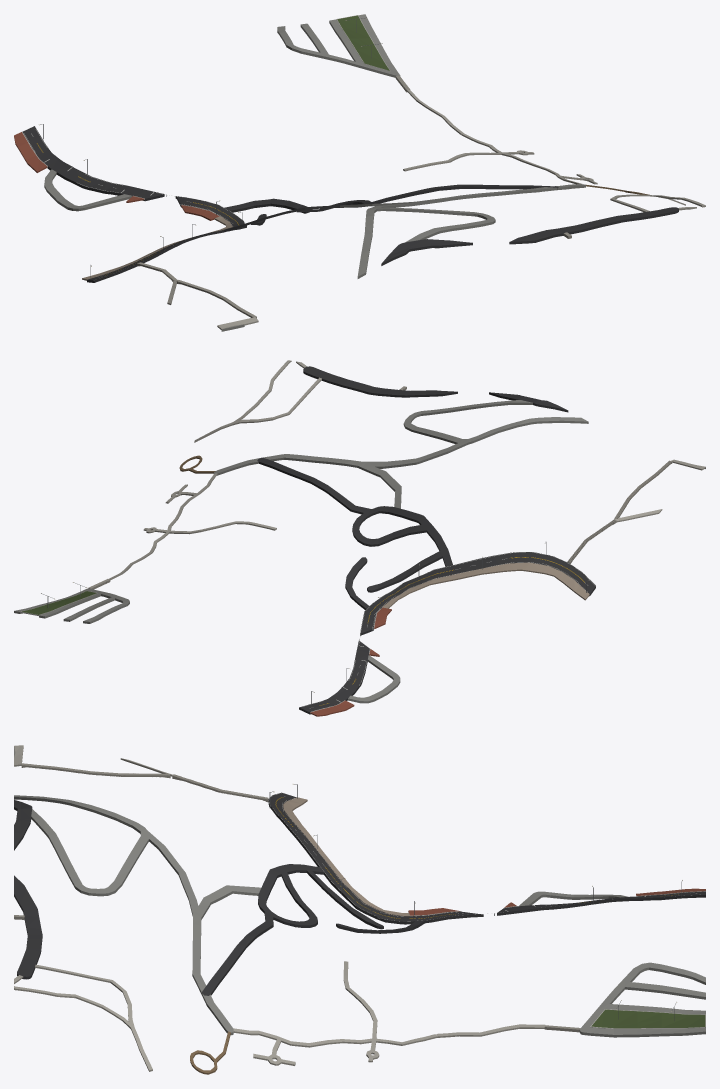
File: 17-109451-59481.e2bf1efb.glb
3 views of the same model, one above another, from view 1: azimuth 30°, elevation 25°; view 2: azimuth 150°, elevation 25°; view 3: azimuth 270°, elevation 25° (orthographic). The views are drawn at different scales.
Size of the model in its own units: 271 by 62.47 by 292.
